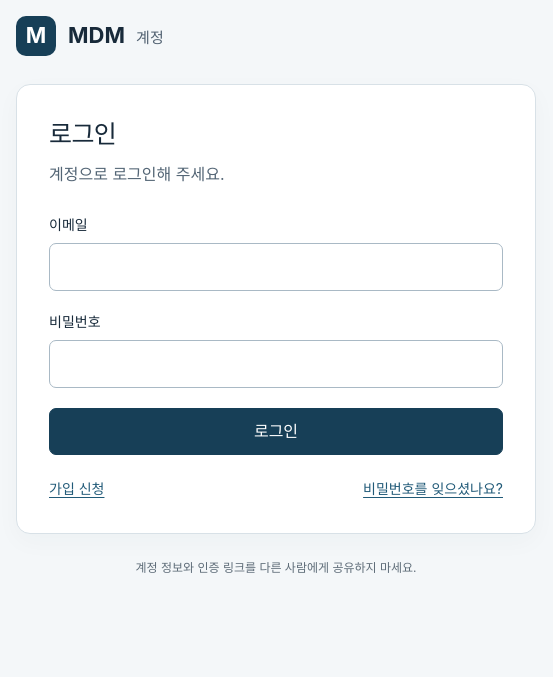
Test case: authentication screens › shows the account after login without exposing the access token
Type "person@example.net" into the field labelled "이메일".
click(276, 267); type("person@example.net")  # box [49, 243, 503, 291]
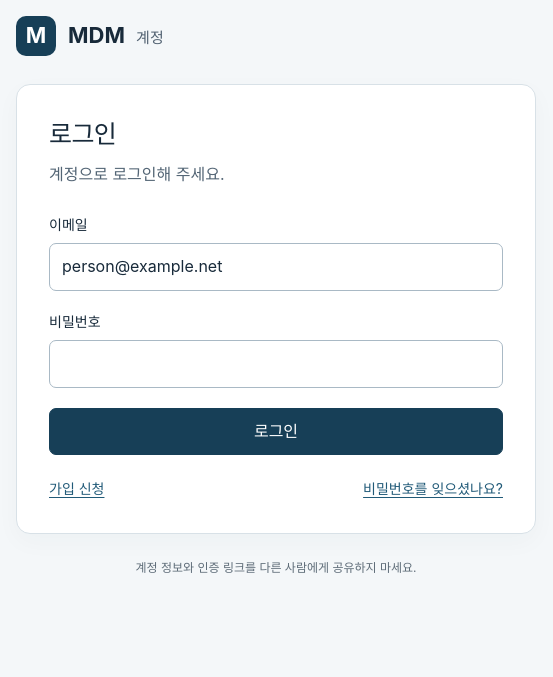
Type "a long password phrase" into the password field labelled "비밀번호".
click(276, 364); type("a long password phrase")  # box [49, 340, 503, 388]
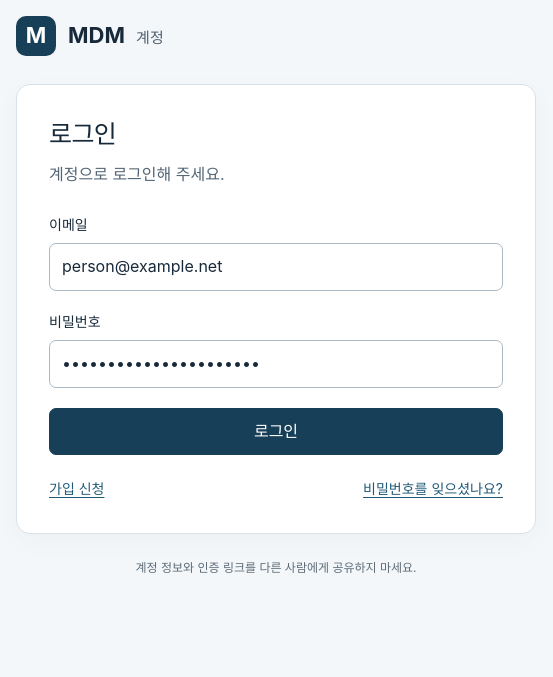
Click the button "로그인".
click(276, 431)  # box [49, 408, 503, 455]
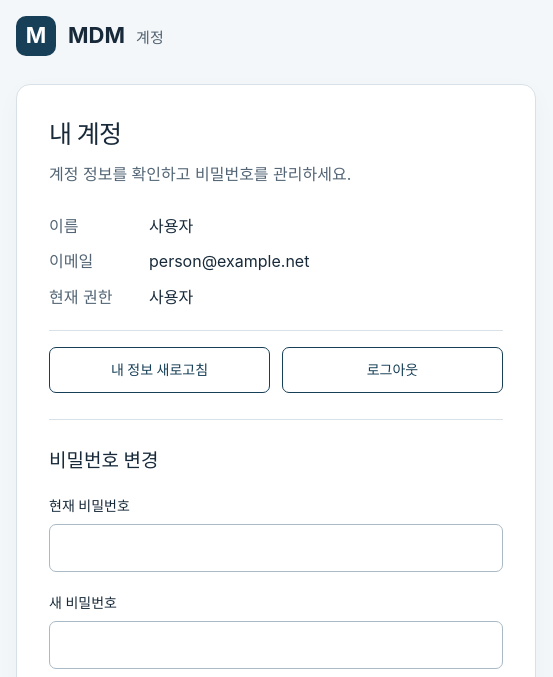
Expected: the heading "내 계정" is shown, [49, 119, 122, 149]
Expected: the text "person@example.net" is shown, [149, 251, 309, 271]
